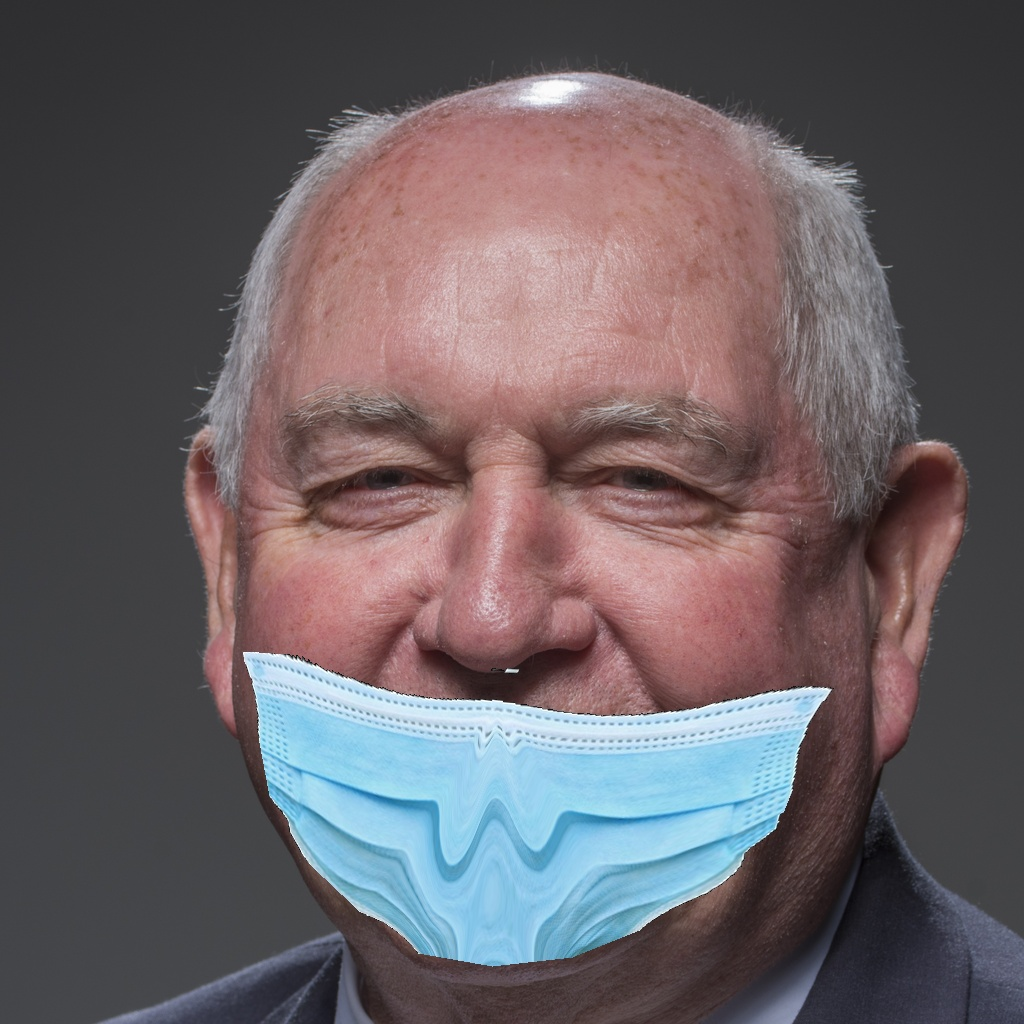mascarilla_mal_puesta: (212, 305, 892, 1003)
